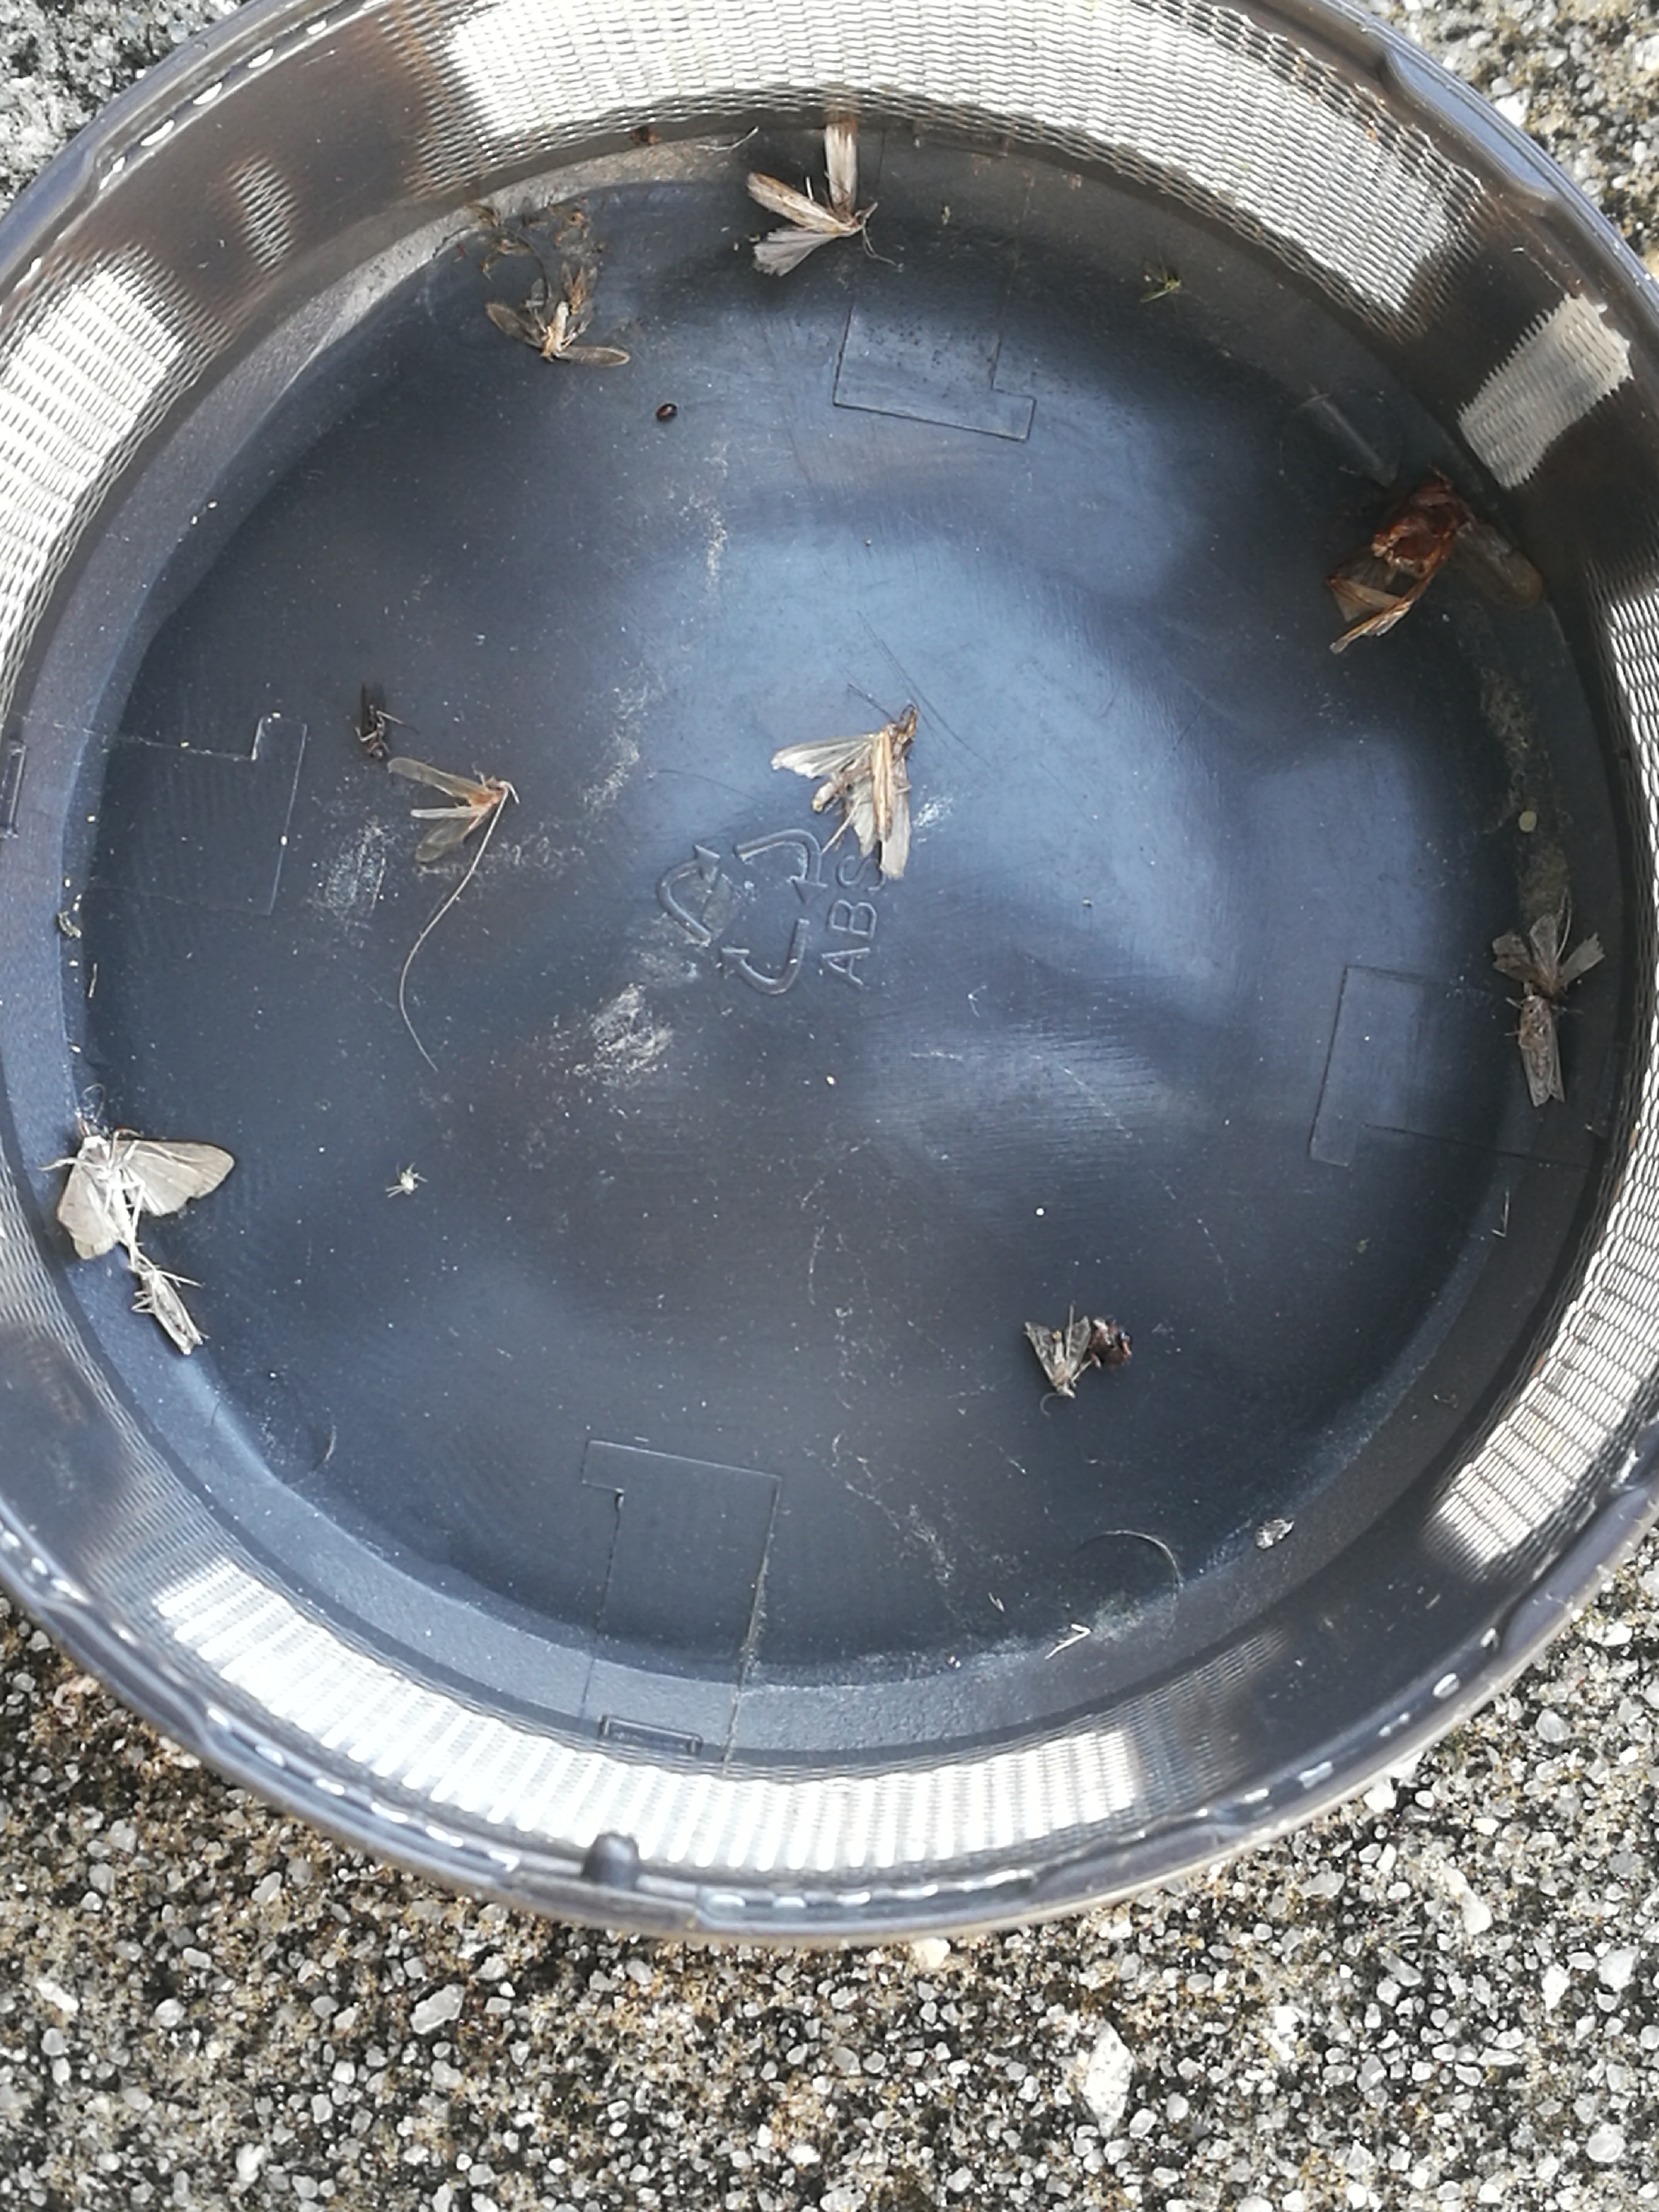beetle: (1375, 479, 1462, 575)
mosquito: (129, 1259, 202, 1355), (1518, 995, 1565, 1106), (362, 679, 389, 761)
moth: (58, 1136, 234, 1258), (748, 118, 878, 275), (387, 758, 504, 860), (488, 300, 629, 366), (1490, 916, 1601, 993), (1026, 1317, 1091, 1397), (561, 263, 596, 315)
